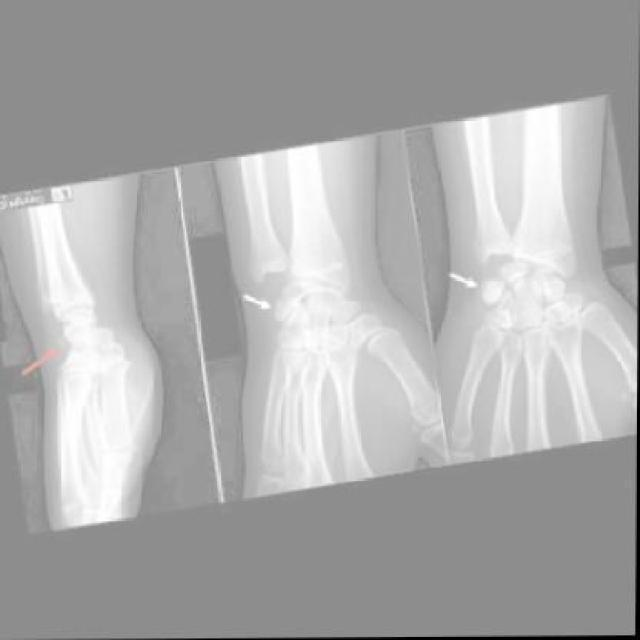Fracture: (271, 299, 299, 333), (479, 285, 502, 304), (52, 336, 71, 356)
